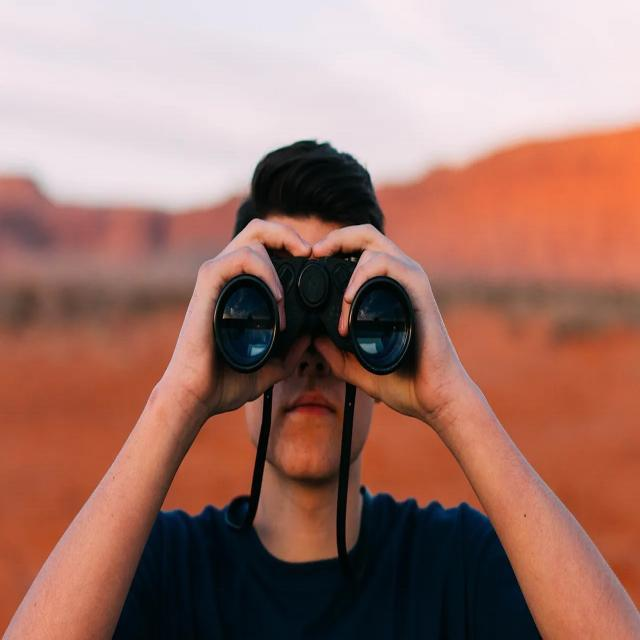Binocular: (187, 245, 439, 398)
